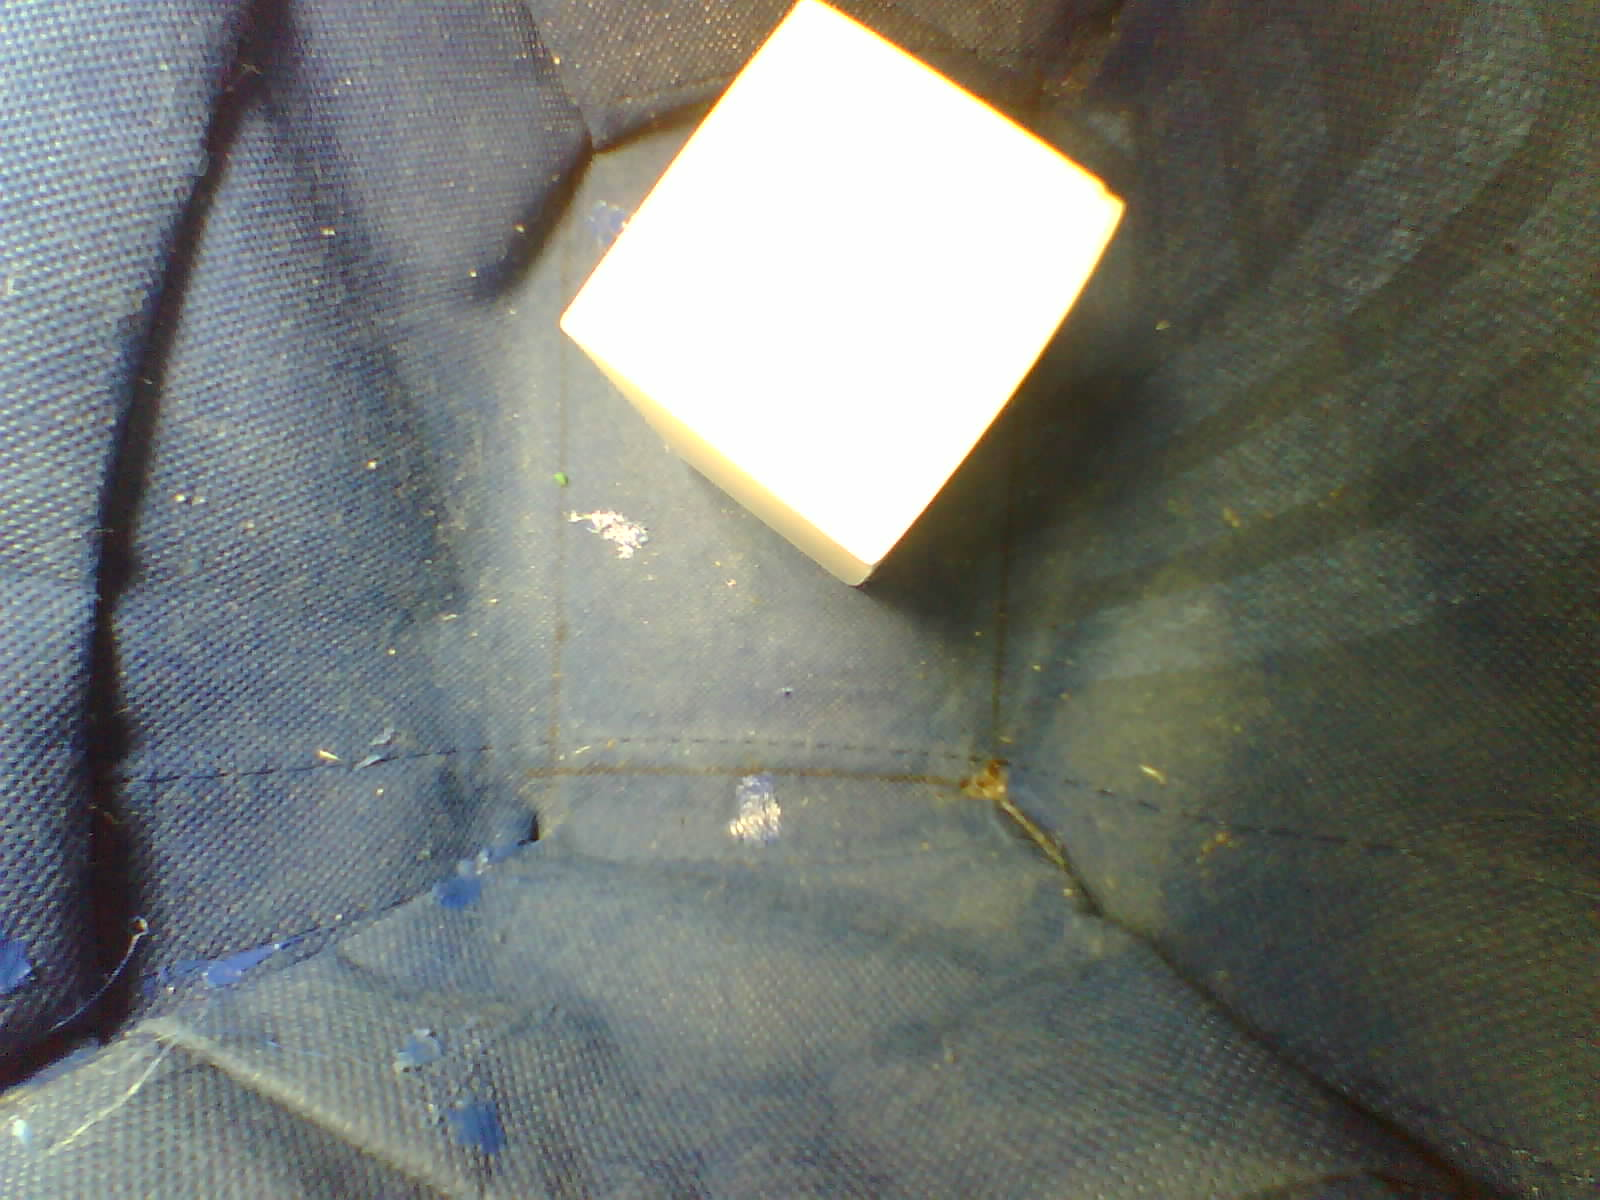cube-hard: (534, 0, 1140, 603)
